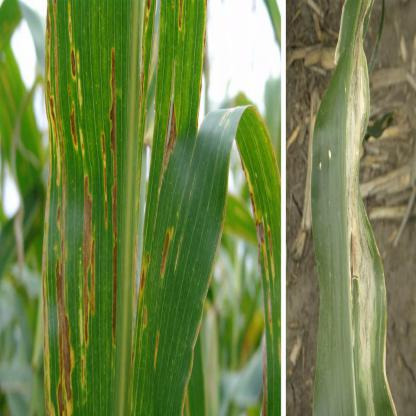corn leaf blight: (154, 1, 281, 415), (42, 4, 133, 415), (307, 10, 399, 414)
